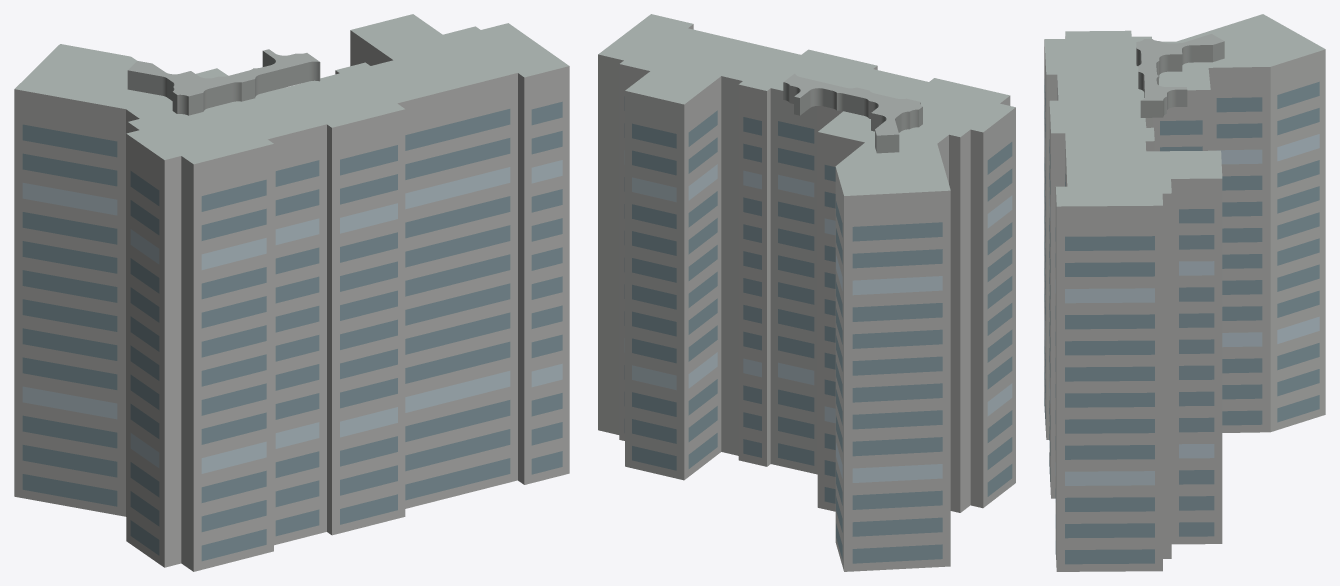
The model's file is fallback-godeok-arteon-321.glb.
3 views of the same model, side by side, from view 1: azimuth 30°, elevation 25°; view 2: azimuth 150°, elevation 25°; view 3: azimuth 270°, elevation 25° (orthographic). The views are drawn at different scales.
Visible parts, largest first — view 1: fallback-godeok-arteon-321; view 2: fallback-godeok-arteon-321; view 3: fallback-godeok-arteon-321.
Boxes of the visible parts, left/top/right/bottom form: fallback-godeok-arteon-321: left=14, top=14, right=569, bottom=571; fallback-godeok-arteon-321: left=598, top=14, right=1015, bottom=571; fallback-godeok-arteon-321: left=1044, top=14, right=1325, bottom=571.
Bounding box in the file's own units: 46.42 × 43 × 28.68.
